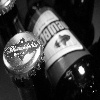beer: (22, 4, 94, 88)
